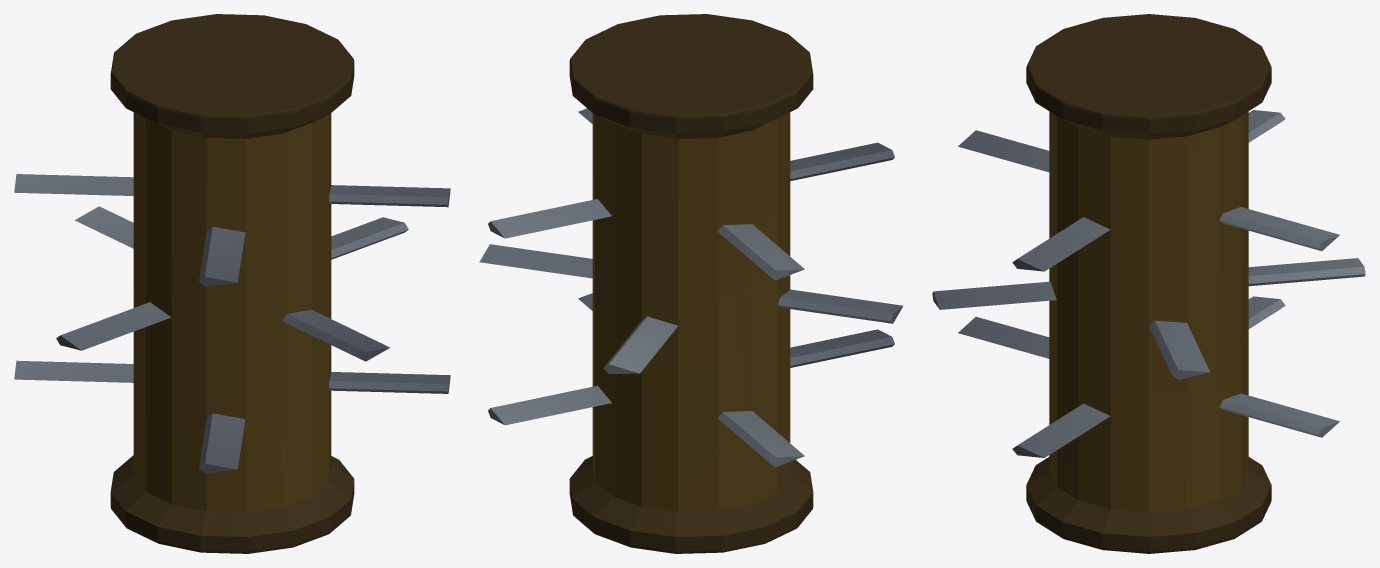
File: SM_RotatingBlades1.fbx
The picture shows the model from 3 angles, left to right: view 1: azimuth 30°, elevation 25°; view 2: azimuth 150°, elevation 25°; view 3: azimuth 270°, elevation 25°; orthographic projection.
Parts seen in each view (by area): view 1: SM_RotatingBlades1; view 2: SM_RotatingBlades1; view 3: SM_RotatingBlades1.
Boxes of the visible parts, x1,y1,x2,y2 form: SM_RotatingBlades1: (14,14,450,553); SM_RotatingBlades1: (479,14,903,553); SM_RotatingBlades1: (932,14,1365,553).
Bounding box in the file's own units: 435 × 485 × 435.
